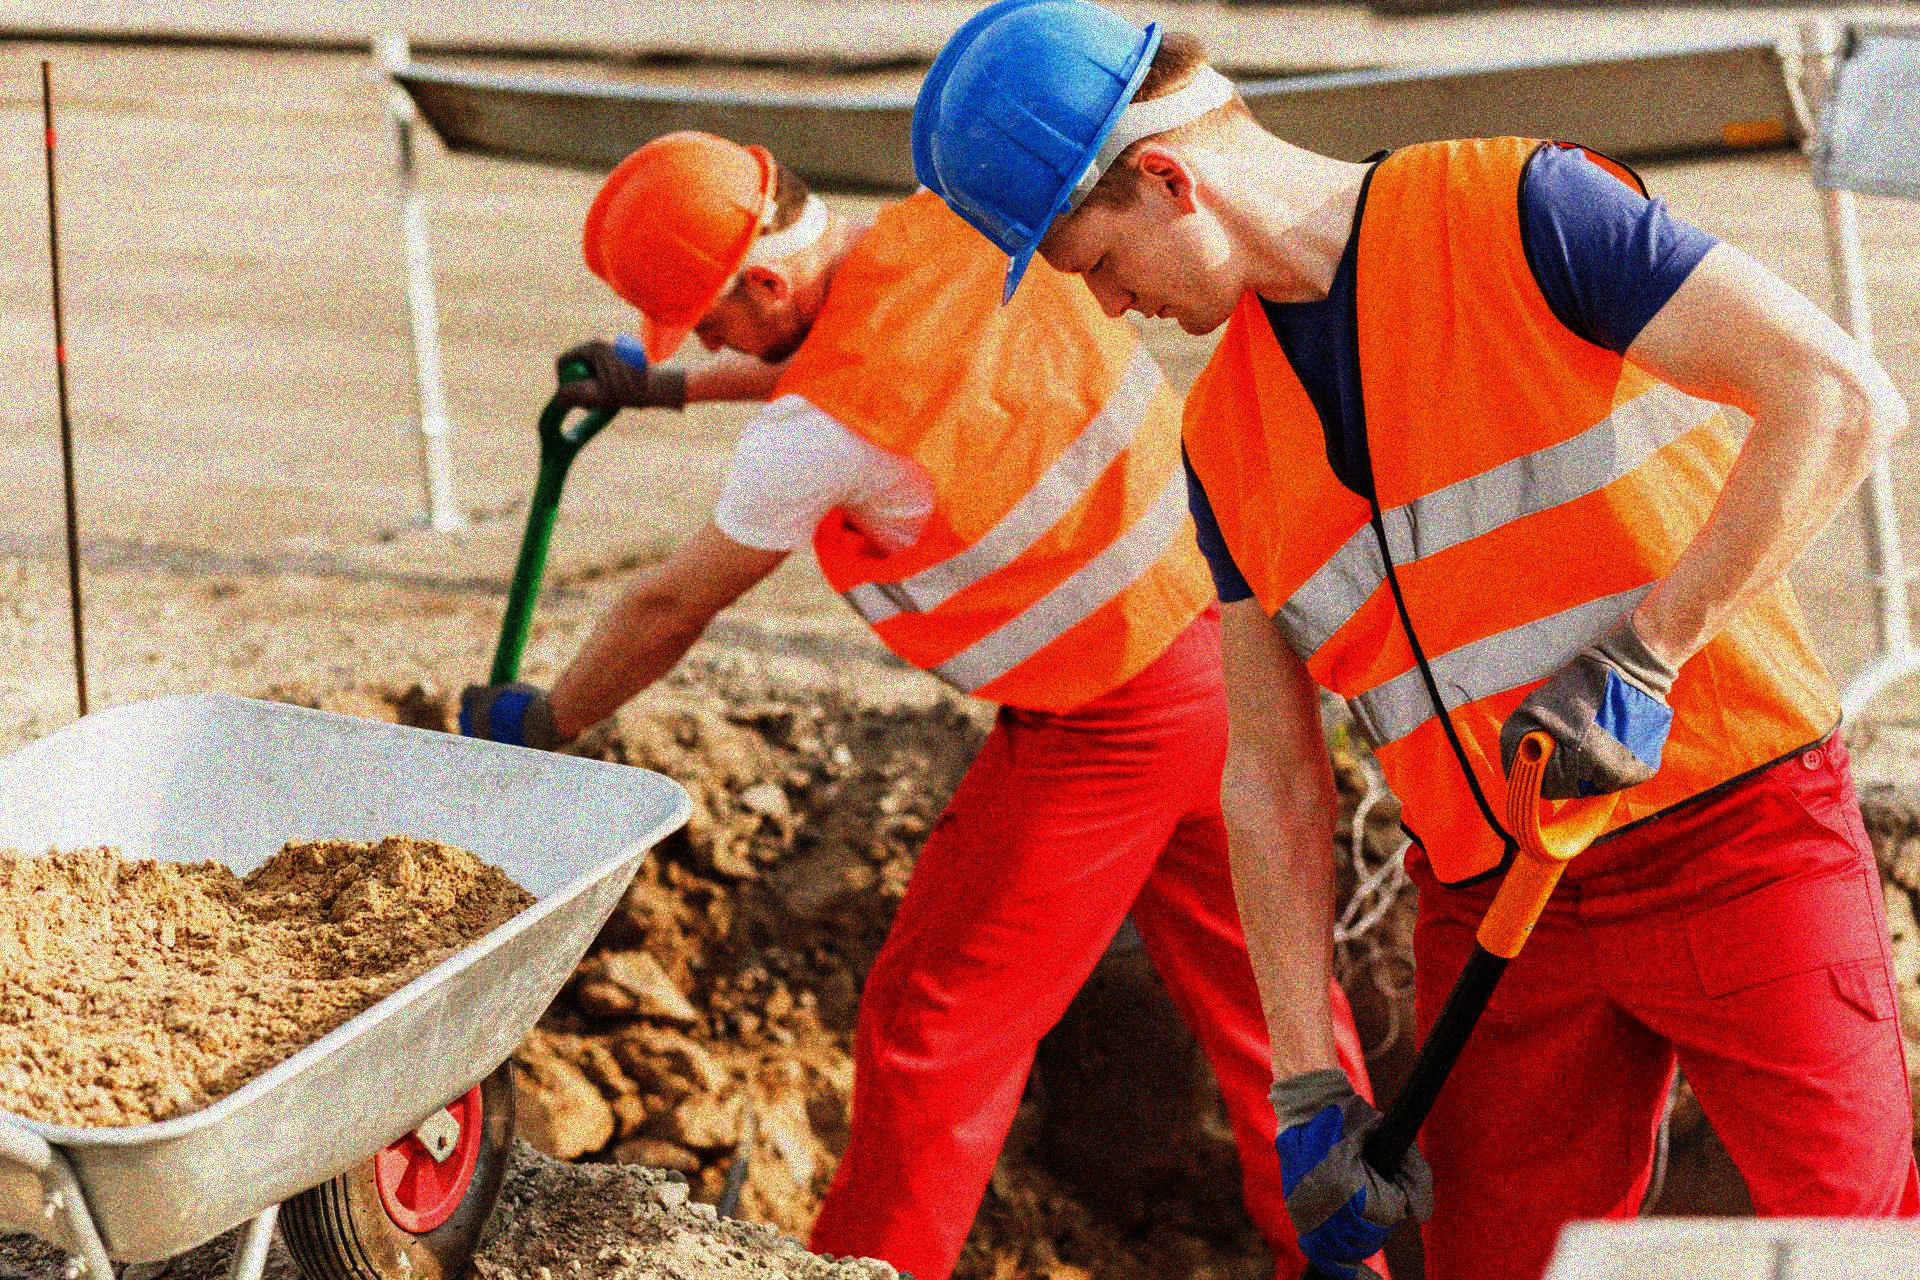helmet: (904, 1, 1244, 333), (579, 119, 844, 364)
